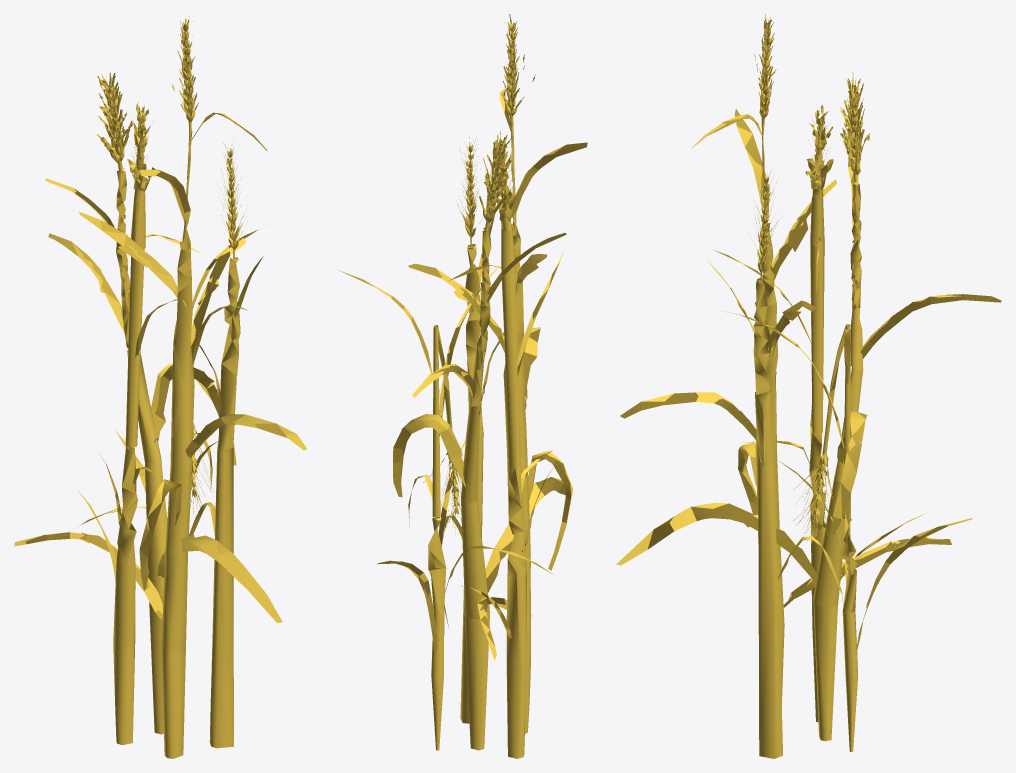
The model's file is Wheat Wind Blow.fbx.
The picture shows the model from 3 angles, left to right: view 1: azimuth 30°, elevation 25°; view 2: azimuth 150°, elevation 25°; view 3: azimuth 270°, elevation 25°; orthographic projection. The views are drawn at different scales.
Parts seen in each view (by area): view 1: rye001, rye, rye003, rye002, rye004; view 2: rye, rye003, rye001, rye004, rye002; view 3: rye, rye001, rye002, rye003, rye004.
Part boxes in pixels (x1,y1,x2,y2): rye001: (14,14,306,758); rye: (45,72,282,734); rye003: (75,102,199,745); rye002: (186,141,263,748); rye004: (65,220,278,534); rye: (393,130,566,750); rye003: (449,139,564,758); rye001: (408,14,587,733); rye004: (338,265,553,750); rye002: (441,137,504,723); rye: (616,72,1001,741); rye001: (620,14,951,705); rye002: (707,161,843,758); rye003: (714,105,927,722); rye004: (723,311,972,751).
Bounding box in the file's own units: 117 × 344 × 167.
